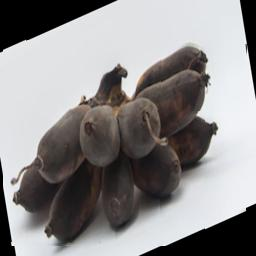Banana Rotten: (4, 40, 248, 247)
